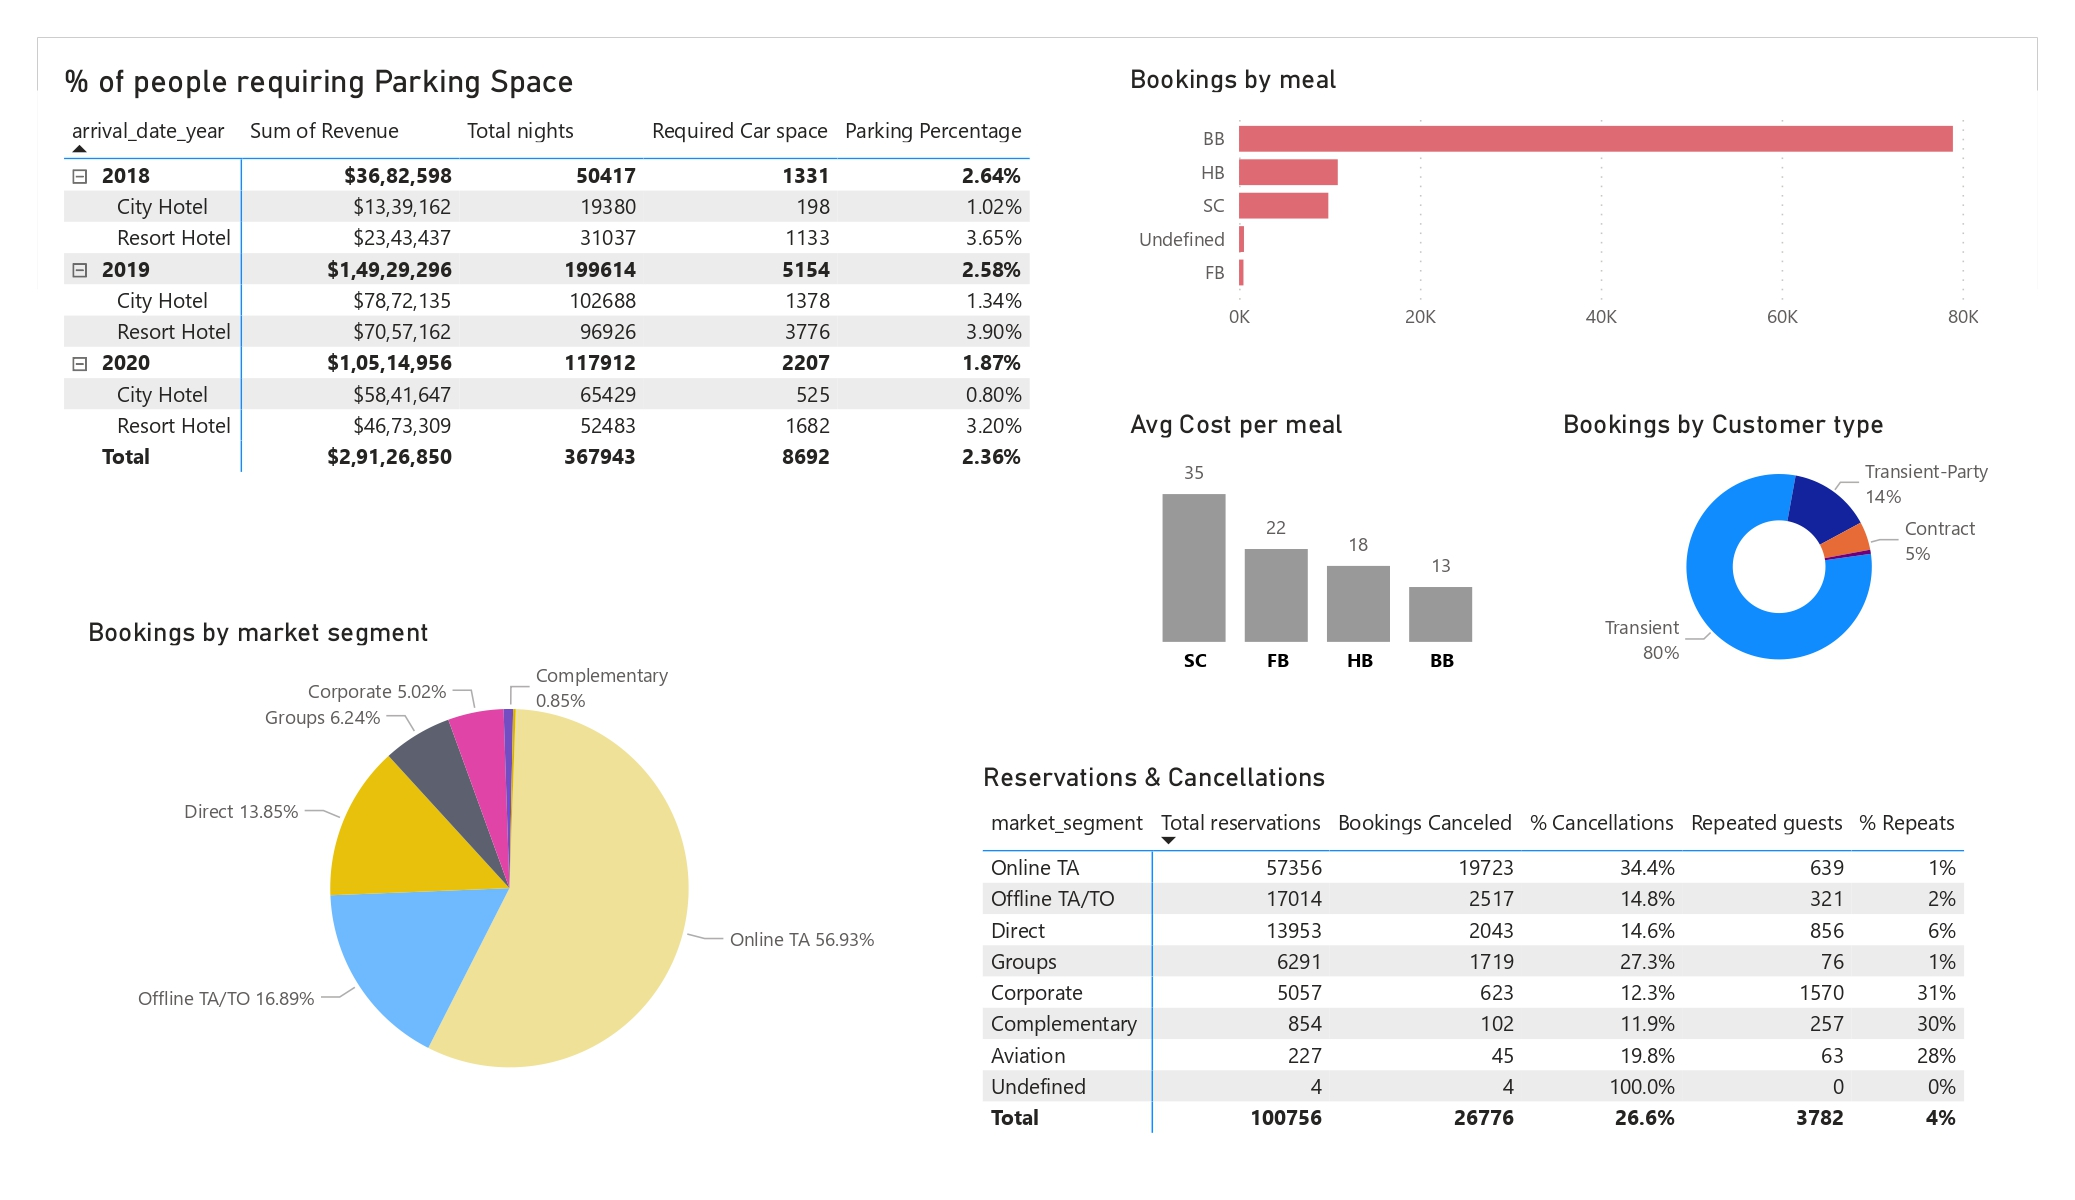

Layout of this report page (visuals, bound fields, positions):
{"tool":"powerbi","page":{"name":"Page 2","canvas":[1280,720],"ordinal":1},"visuals":[{"type":"pivotTable","title":"% of people requiring Parking Space","fields":{"Values":["Sum(Query1.Revenue)","Query1.Total nights","Sum(Query1.required_car_parking_spaces)","Query1.Parking Percentage"],"Rows":["Query1.arrival_date_year","Query1.hotel"]},"box":[12.2,15.9,644.2,279.9],"z":0},{"type":"pivotTable","title":"Reservations & Cancellations","fields":{"Values":["CountNonNull(Query1.reservation_status_date)","Sum(Query1.is_canceled)","Query1.% Cancellations","Sum(Query1.is_repeated_guest)","Query1.% Repeats"],"Rows":["Query1.market_segment"]},"box":[600.2,463.3,657.7,245.7],"z":1000},{"type":"clusteredBarChart","title":"Bookings by meal","fields":{"Category":["Query1.meal"],"Y":["CountNonNull(Query1.meal)"]},"box":[694.3,15.9,552.5,180.9],"z":2000},{"type":"clusteredColumnChart","title":"Avg Cost per meal","fields":{"Y":["Avg(Query1.Cost)"],"Category":["Query1.meal"]},"box":[694.3,237.1,251.8,179.7],"z":3000},{"type":"pieChart","title":"Bookings by market segment","fields":{"Category":["Query1.market_segment"],"Y":["CountNonNull(Query1.market_segment)"]},"box":[26.9,370.4,550.1,330.1],"z":4000},{"type":"donutChart","title":"Bookings by Customer type","fields":{"Category":["Query1.customer_type"],"Y":["CountNonNull(Query1.customer_type)"]},"box":[970.6,237.1,287.3,184.6],"z":5000}]}

Visuals, with their boxes in screenshot pixels (x1, y1, x2, y2):
"% of people requiring Parking Space" pivotTable: locate(57, 62, 1063, 500)
"Reservations & Cancellations" pivotTable: locate(975, 761, 2003, 1145)
"Bookings by meal" clusteredBarChart: locate(1122, 62, 1986, 345)
"Avg Cost per meal" clusteredColumnChart: locate(1122, 408, 1516, 689)
"Bookings by market segment" pieChart: locate(80, 616, 939, 1132)
"Bookings by Customer type" donutChart: locate(1554, 408, 2003, 696)
